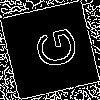G: (24, 25, 80, 74)
